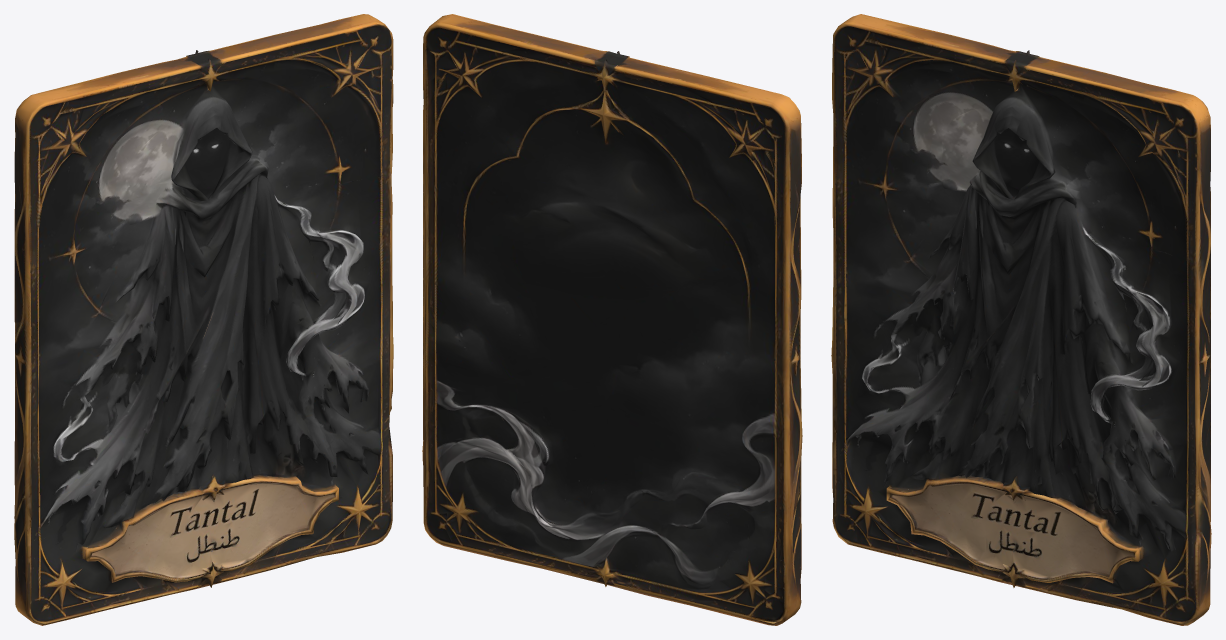
File: tantal_card.fbx
3 renders of one model, left to right at view 1: azimuth 30°, elevation 25°; view 2: azimuth 150°, elevation 25°; view 3: azimuth 330°, elevation 25°, orthographic.
Visible parts, largest first — view 1: tantal_card; view 2: tantal_card; view 3: tantal_card.
Part boxes in pixels (left/top/right/bottom): tantal_card: left=14, top=14, right=393, bottom=625; tantal_card: left=422, top=14, right=802, bottom=625; tantal_card: left=831, top=14, right=1211, bottom=625.
Size of the model in its own units: 72.22 by 98.04 by 7.52.
1 material, 1 textured.
